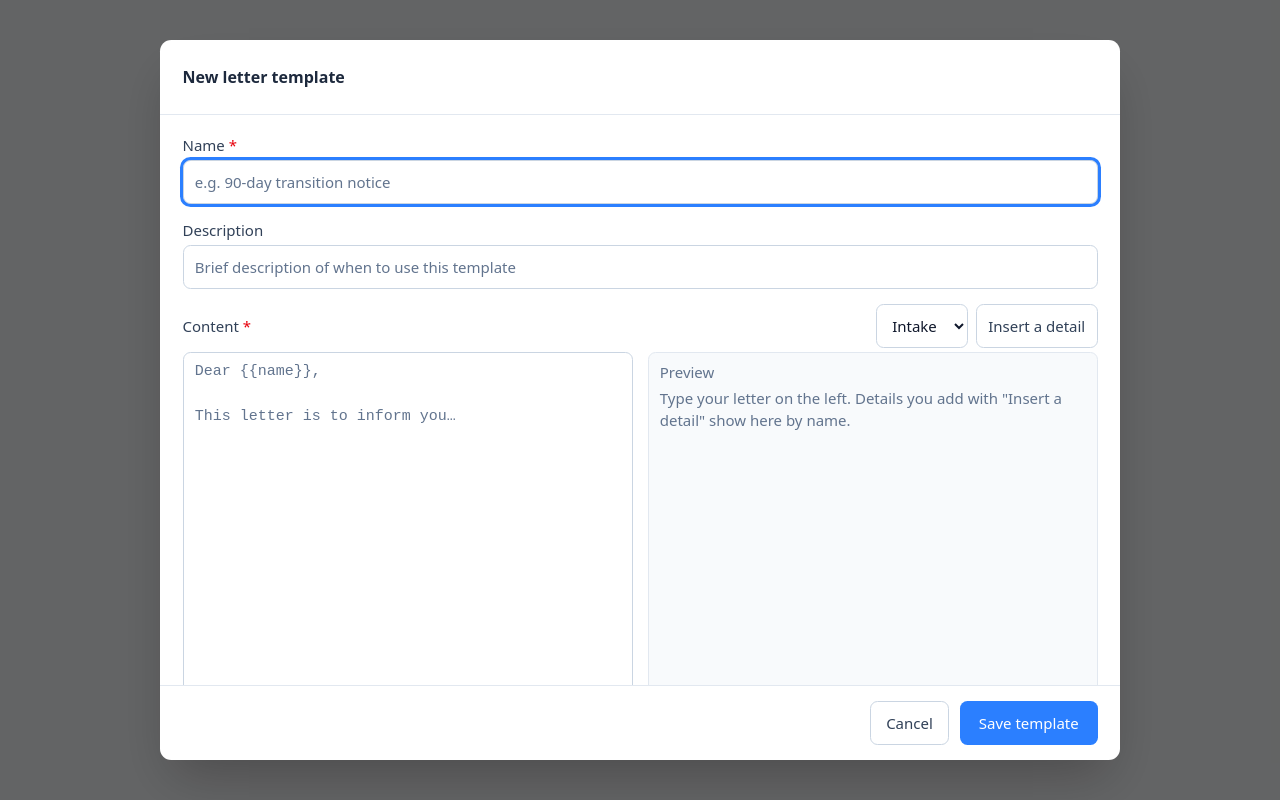
it: letter editor errors (audit A06-14) › a missing name or text is announced and tied to its box
This screenshot has width=1280, height=800.
Click the button "Save template". click: (1029, 723)
box: [960, 701, 1098, 745]
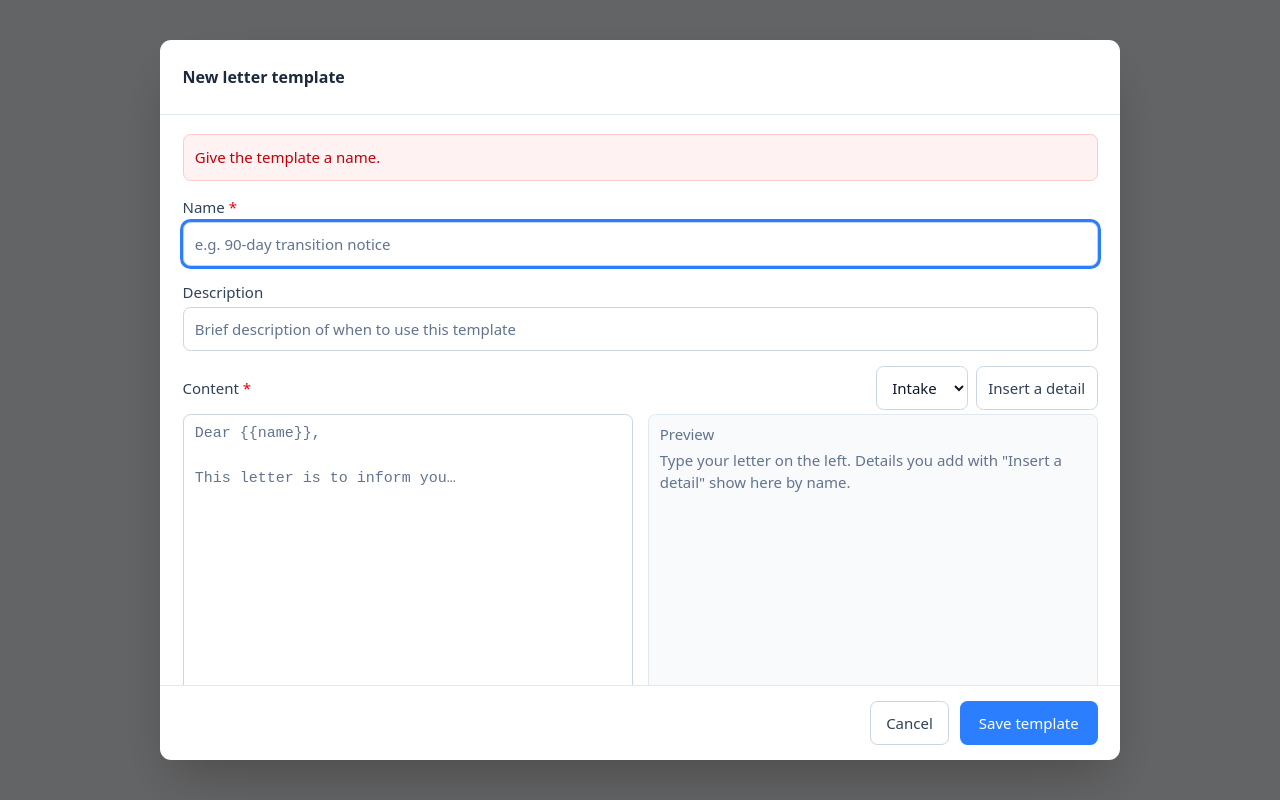
Result: the message reads "Give the template a name." at [195, 147, 380, 167]
Type "Reminder" into the field labelled "Name *". click: (640, 244)
box: [182, 222, 1098, 266]
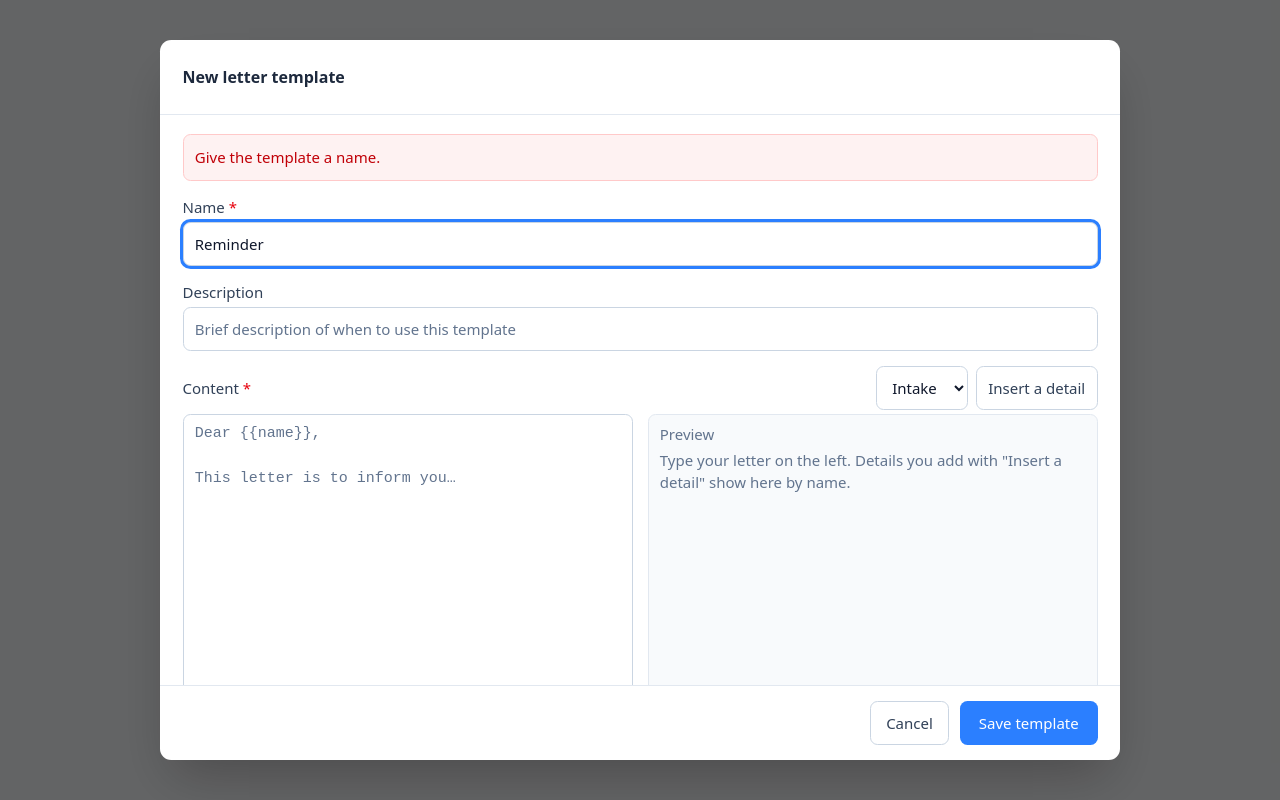
Click the button "Save template". click: (1029, 723)
box: [960, 701, 1098, 745]
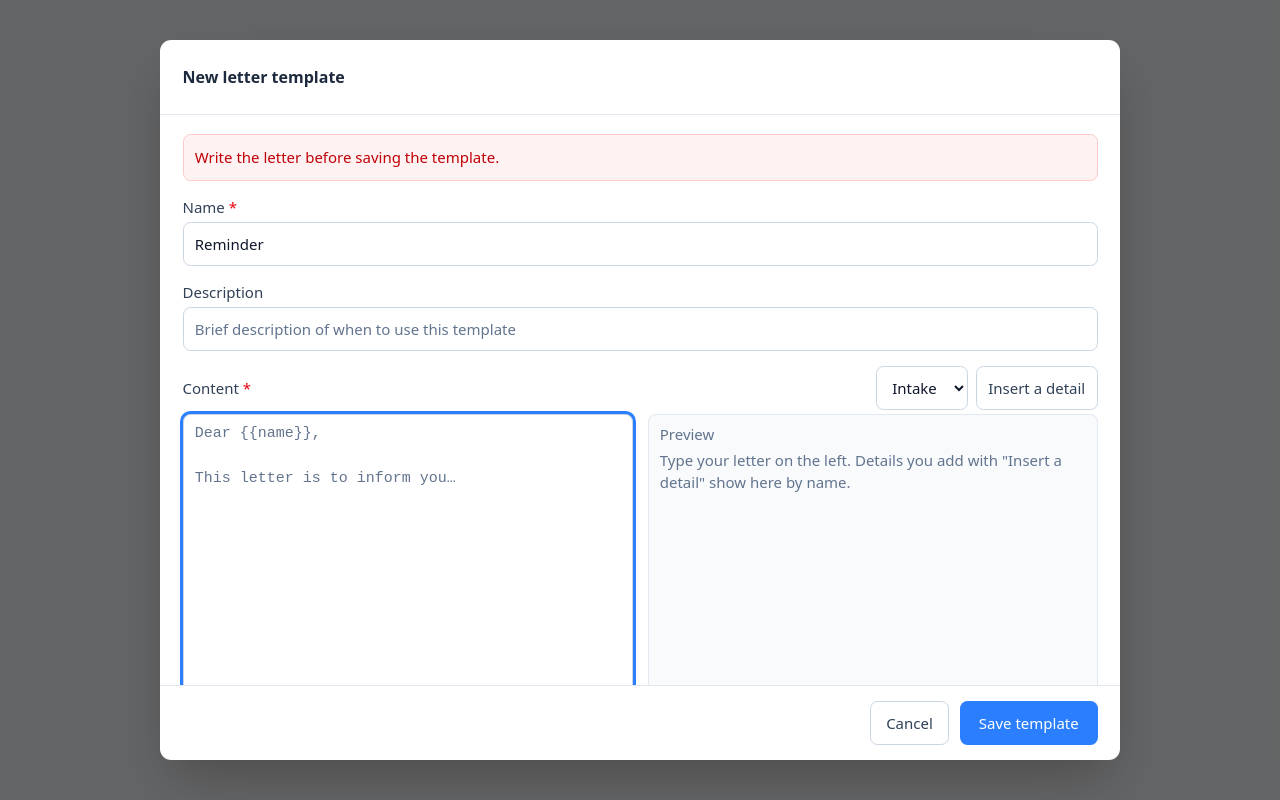
Result: the message reads "Write the letter before saving the template." at [195, 147, 499, 167]
